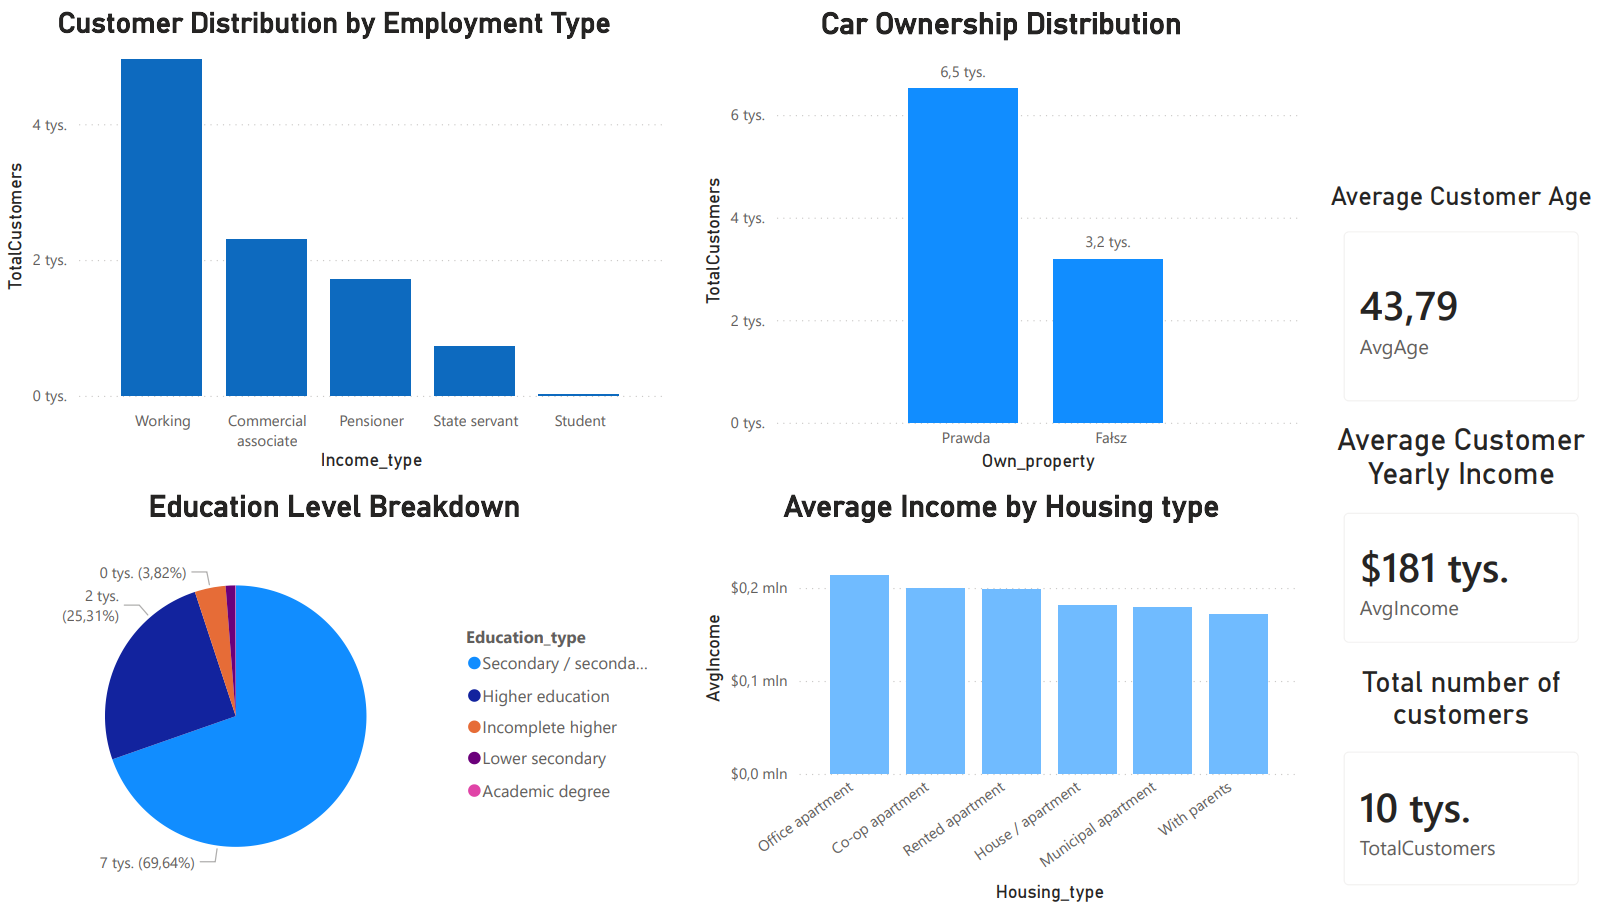

What the dashboard file says about the page in this screenshot:
{"tool":"powerbi","page":{"name":"Executive Customer Overview","canvas":[1280,720],"ordinal":0},"visuals":[{"type":"cardVisual","title":"Average Customer Age","fields":{"Data":["_Key measures.AvgAge"]},"box":[1058,140,222.3,193.5],"z":0},{"type":"cardVisual","title":"Average Customer Yearly Income","fields":{"Data":["_Key measures.AvgIncome"]},"box":[1058,333.4,222.3,193.5],"z":1000},{"type":"cardVisual","title":"Total number of customers","fields":{"Data":["_Key measures.TotalCustomers"]},"box":[1058,526.9,222.3,193.5],"z":2000},{"type":"columnChart","title":"Customer Distribution by Employment Type","fields":{"Category":["Credit_cards.Income_type"],"Y":["_Key measures.TotalCustomers"]},"box":[0,0,536.5,376],"z":3000},{"type":"pieChart","title":"Education Level Breakdown","fields":{"Y":["_Key measures.TotalCustomers"],"Category":["Credit_cards.Education_type"]},"box":[0,385.6,536.5,334.8],"z":4000},{"type":"columnChart","title":"Average Income by Housing type","fields":{"Category":["Credit_cards.Housing_type"],"Y":["_Key measures.AvgIncome"]},"box":[558.5,385.6,487.1,334.8],"z":5000},{"type":"columnChart","title":"Car Ownership Distribution","fields":{"Y":["_Key measures.TotalCustomers"],"Category":["Credit_cards.Own_property"]},"box":[558,0,487,376],"z":6000}]}

Visuals, with their boxes in screenshot pixels (x1, y1, x2, y2), scaled from the page's 1280x720 canvas onto the 1597x910 screenshot:
"Average Customer Age" cardVisual: select_region(1320, 177, 1596, 422)
"Average Customer Yearly Income" cardVisual: select_region(1320, 421, 1596, 666)
"Total number of customers" cardVisual: select_region(1320, 666, 1596, 909)
"Customer Distribution by Employment Type" columnChart: select_region(0, 0, 669, 475)
"Education Level Breakdown" pieChart: select_region(0, 487, 669, 909)
"Average Income by Housing type" columnChart: select_region(697, 487, 1305, 909)
"Car Ownership Distribution" columnChart: select_region(696, 0, 1304, 475)
